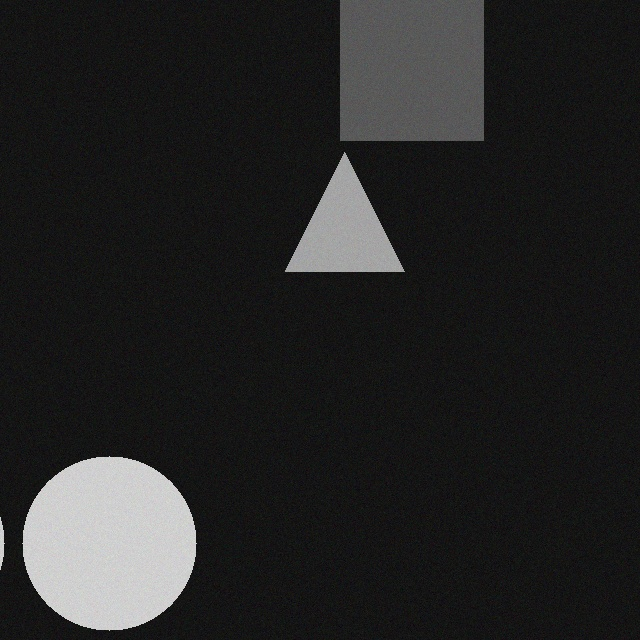circle: (9, 459, 183, 633)
square: (327, 0, 470, 143)
triangle: (272, 155, 391, 274)
